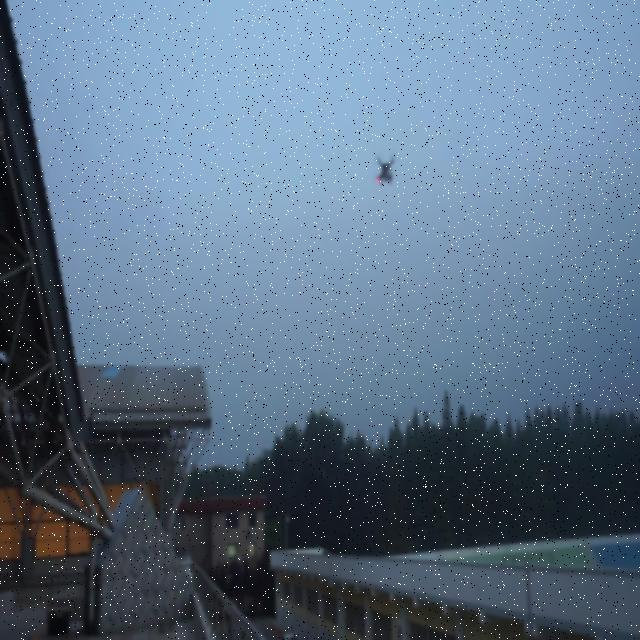UAV: (376, 158, 394, 186)
